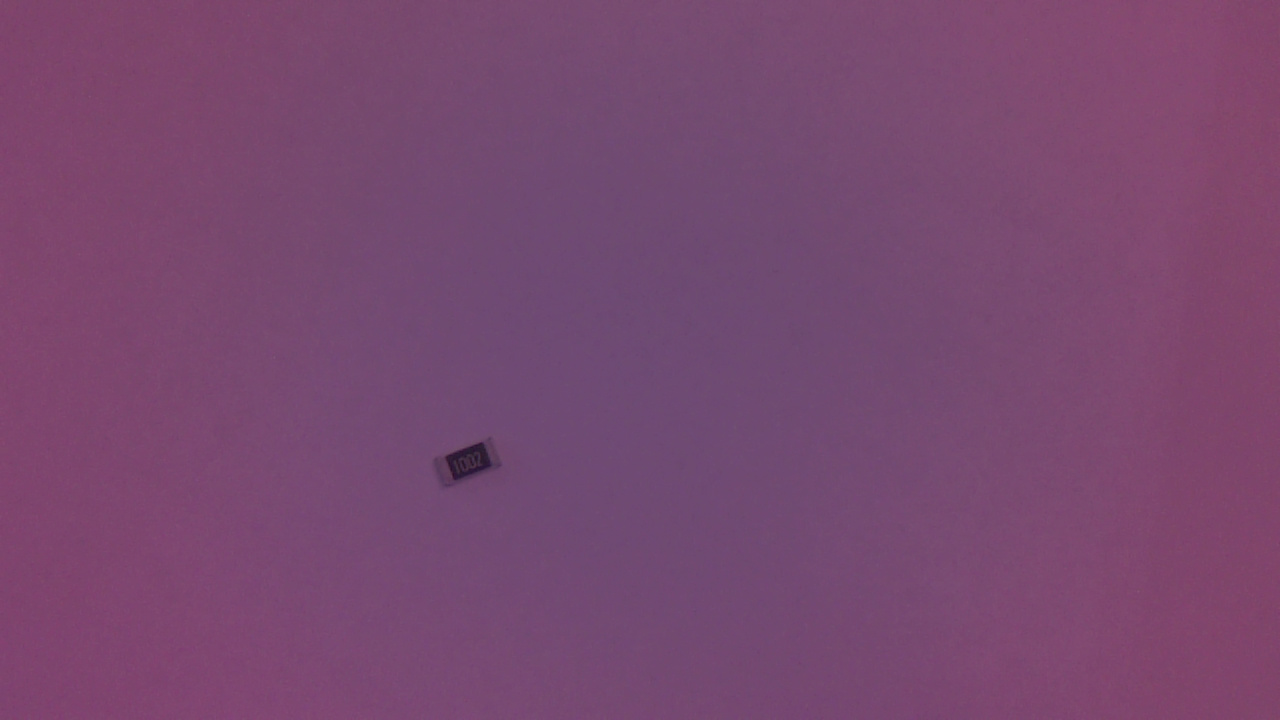Resistor: (431, 440, 512, 496)
